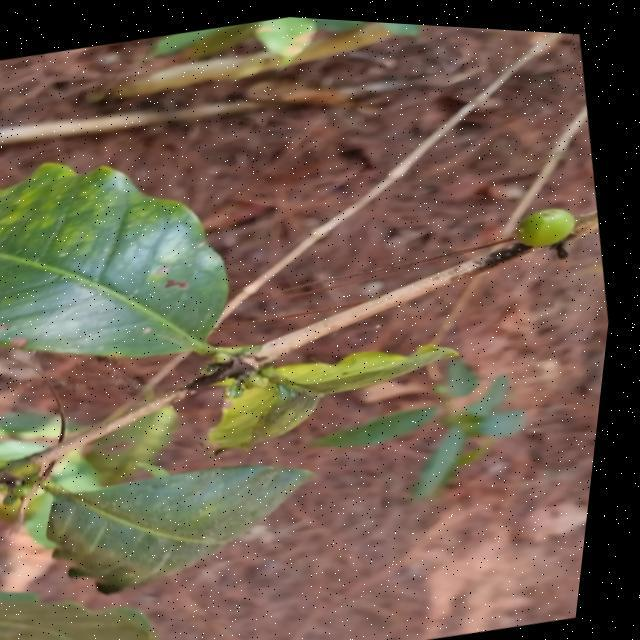leaves: (0, 159, 234, 357), (53, 444, 340, 598)
